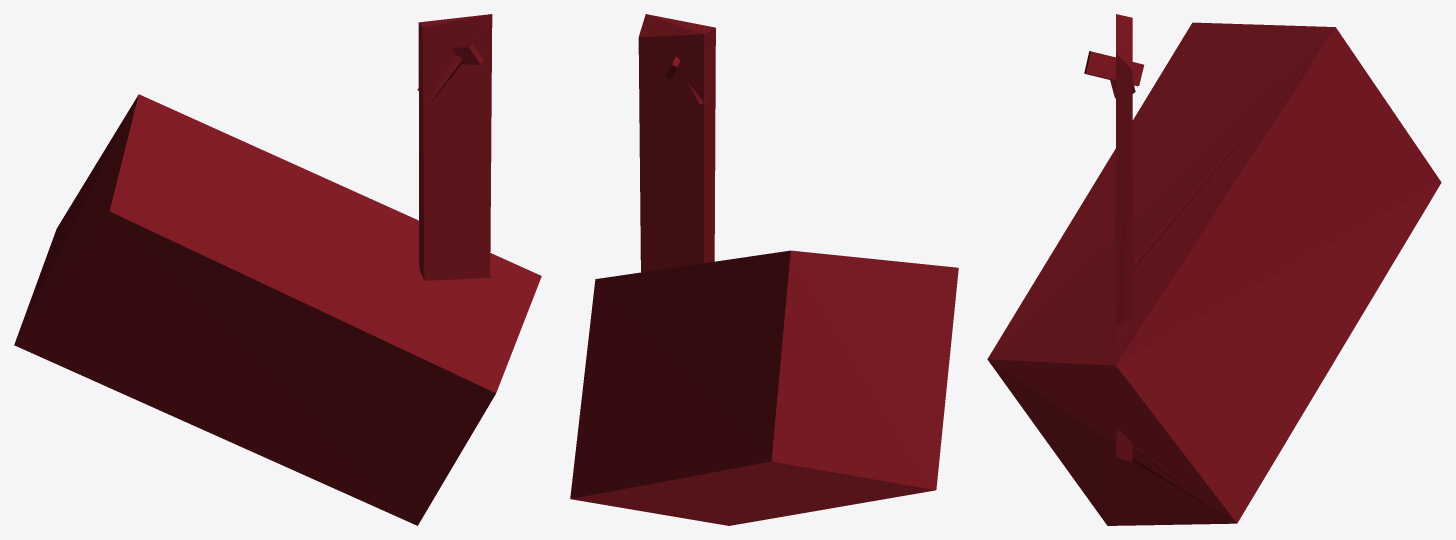
The picture shows the model from 3 angles, left to right: view 1: azimuth 30°, elevation 25°; view 2: azimuth 150°, elevation 25°; view 3: azimuth 270°, elevation 25°; orthographic projection. The views are drawn at different scales.
Parts seen in each view (by area): view 1: 988_Cube.3986; view 2: 988_Cube.3986; view 3: 988_Cube.3986.
Boxes of the visible parts, x1,y1,x2,y2 form: 988_Cube.3986: [14, 14, 541, 525]; 988_Cube.3986: [570, 14, 958, 525]; 988_Cube.3986: [987, 14, 1441, 525].
Size of the model in its own units: 13.68 by 14.92 by 11.89.
